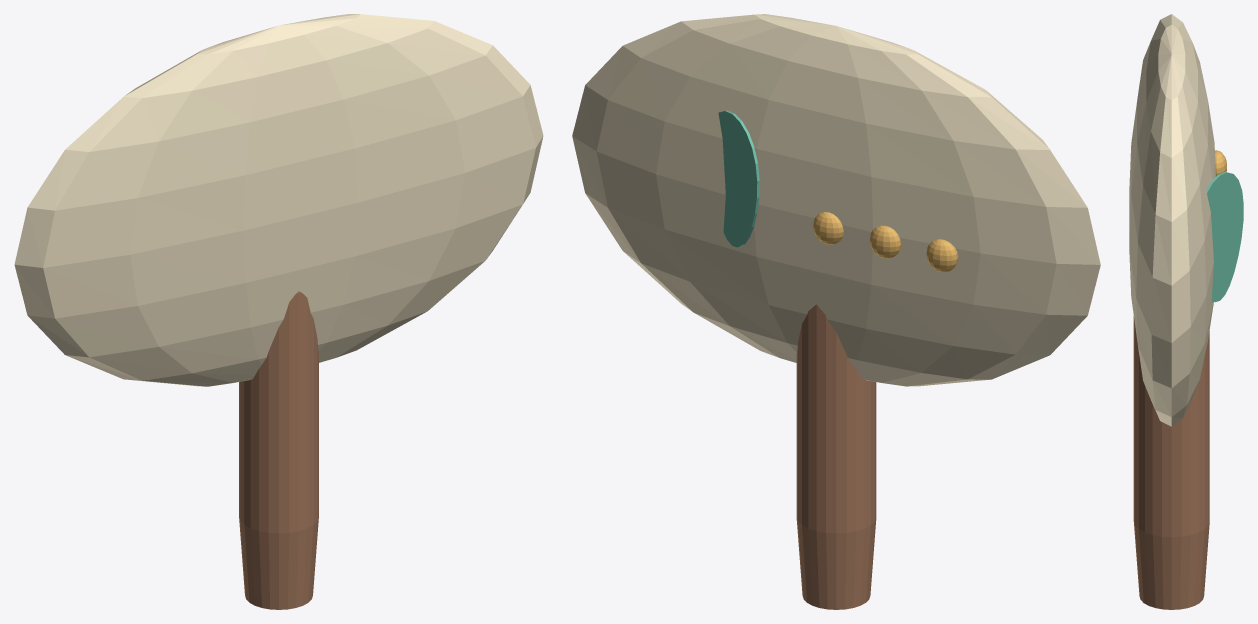
File: Welcome_garden_sign.obj
The picture shows the model from 3 angles, left to right: view 1: azimuth 30°, elevation 25°; view 2: azimuth 150°, elevation 25°; view 3: azimuth 270°, elevation 25°; orthographic projection. The views are drawn at different scales.
Parts seen in each view (by area): view 1: Cream_plaque, Stem; view 2: Cream_plaque, Stem, Leaf_emblem, Path_mark; view 3: Cream_plaque, Stem, Leaf_emblem, Path_mark.
Part boxes in pixels (x1,y1,x2,y2): Cream_plaque: (14, 14, 543, 386); Stem: (239, 291, 318, 609); Cream_plaque: (572, 14, 1100, 386); Stem: (796, 304, 876, 609); Leaf_emblem: (718, 110, 759, 247); Path_mark: (813, 212, 958, 272); Cream_plaque: (1129, 14, 1215, 426); Stem: (1133, 316, 1209, 609); Leaf_emblem: (1207, 172, 1243, 302); Path_mark: (1215, 150, 1226, 176).
Bounding box in the file's own units: 1.68 × 1.73 × 0.3316.
